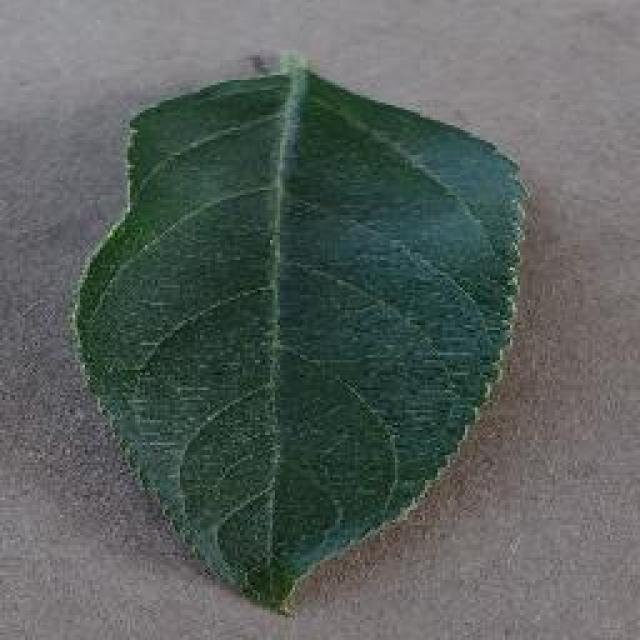apple scab disease: (68, 50, 530, 615)
